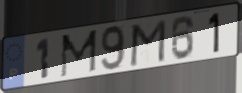1: (35, 37, 50, 80), (207, 11, 221, 55)
6: (170, 14, 195, 62)
9: (99, 24, 128, 74)
M: (59, 28, 99, 80), (128, 17, 168, 68)
